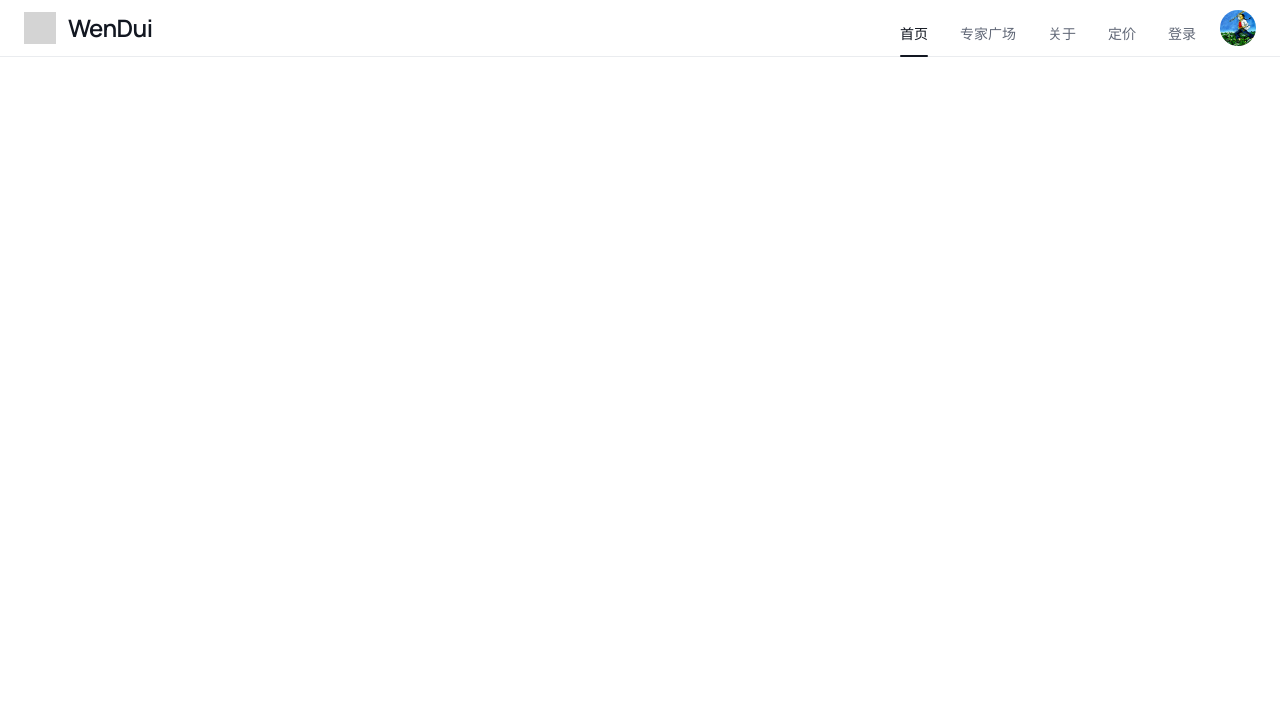
closes the account panel when clicking outside
Click the button with test id "account-trigger": click(1238, 28) [1220, 10, 1256, 46]
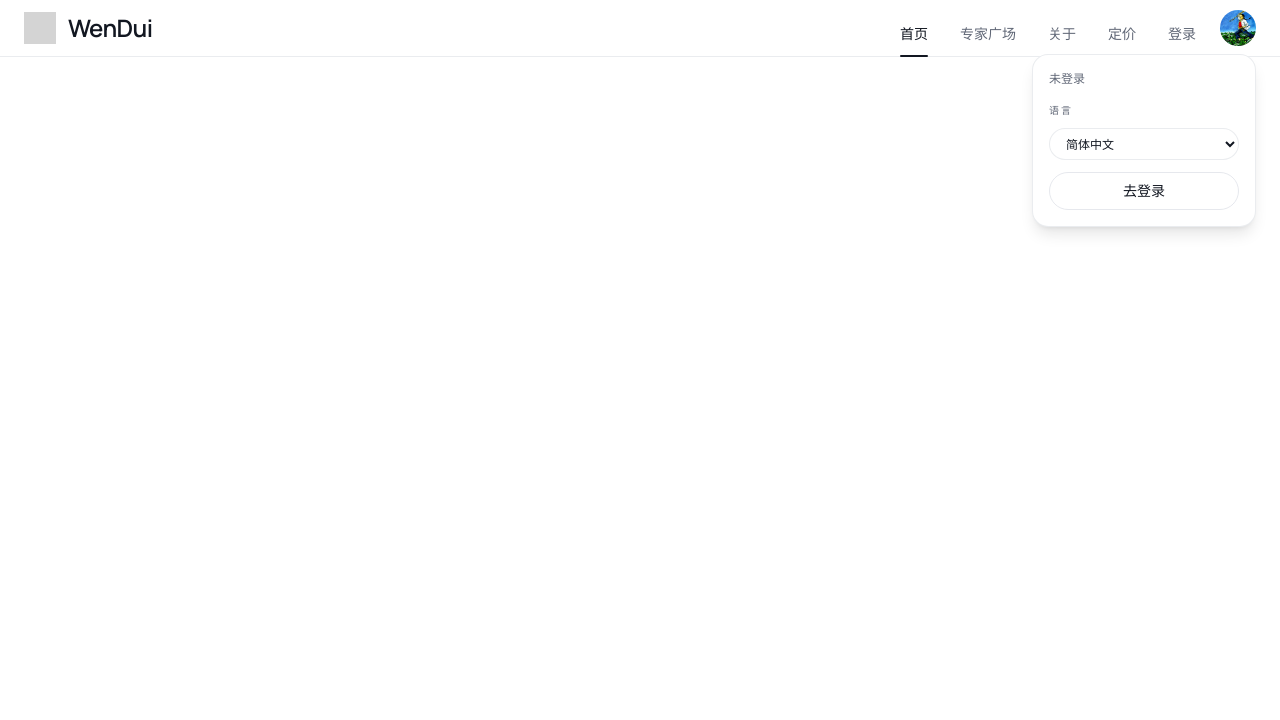
Expected: the text "未登录" is shown, [1049, 70, 1085, 87]
Press the mouse on the element showing "WenDui 首页 专家广场 关于 定价 登录 未登录 语言 去登录": (640, 360) [0, 0, 1279, 719]
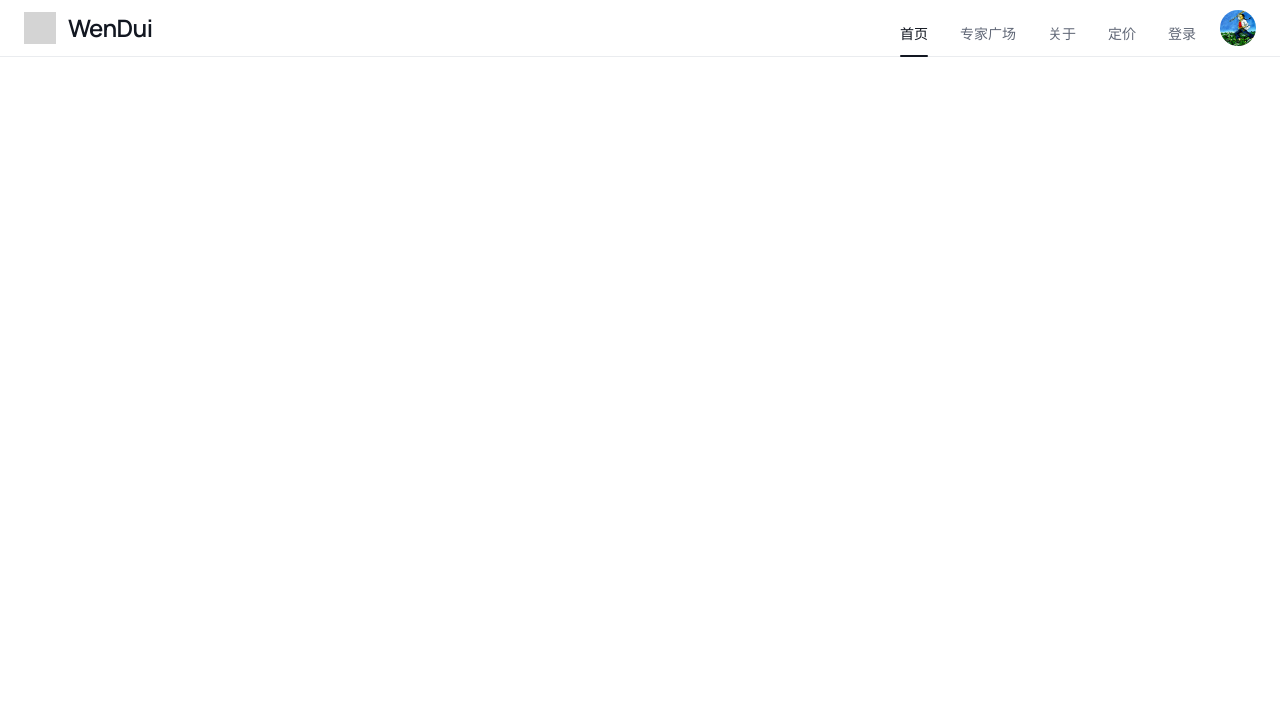
Expected: the text "未登录" is gone
